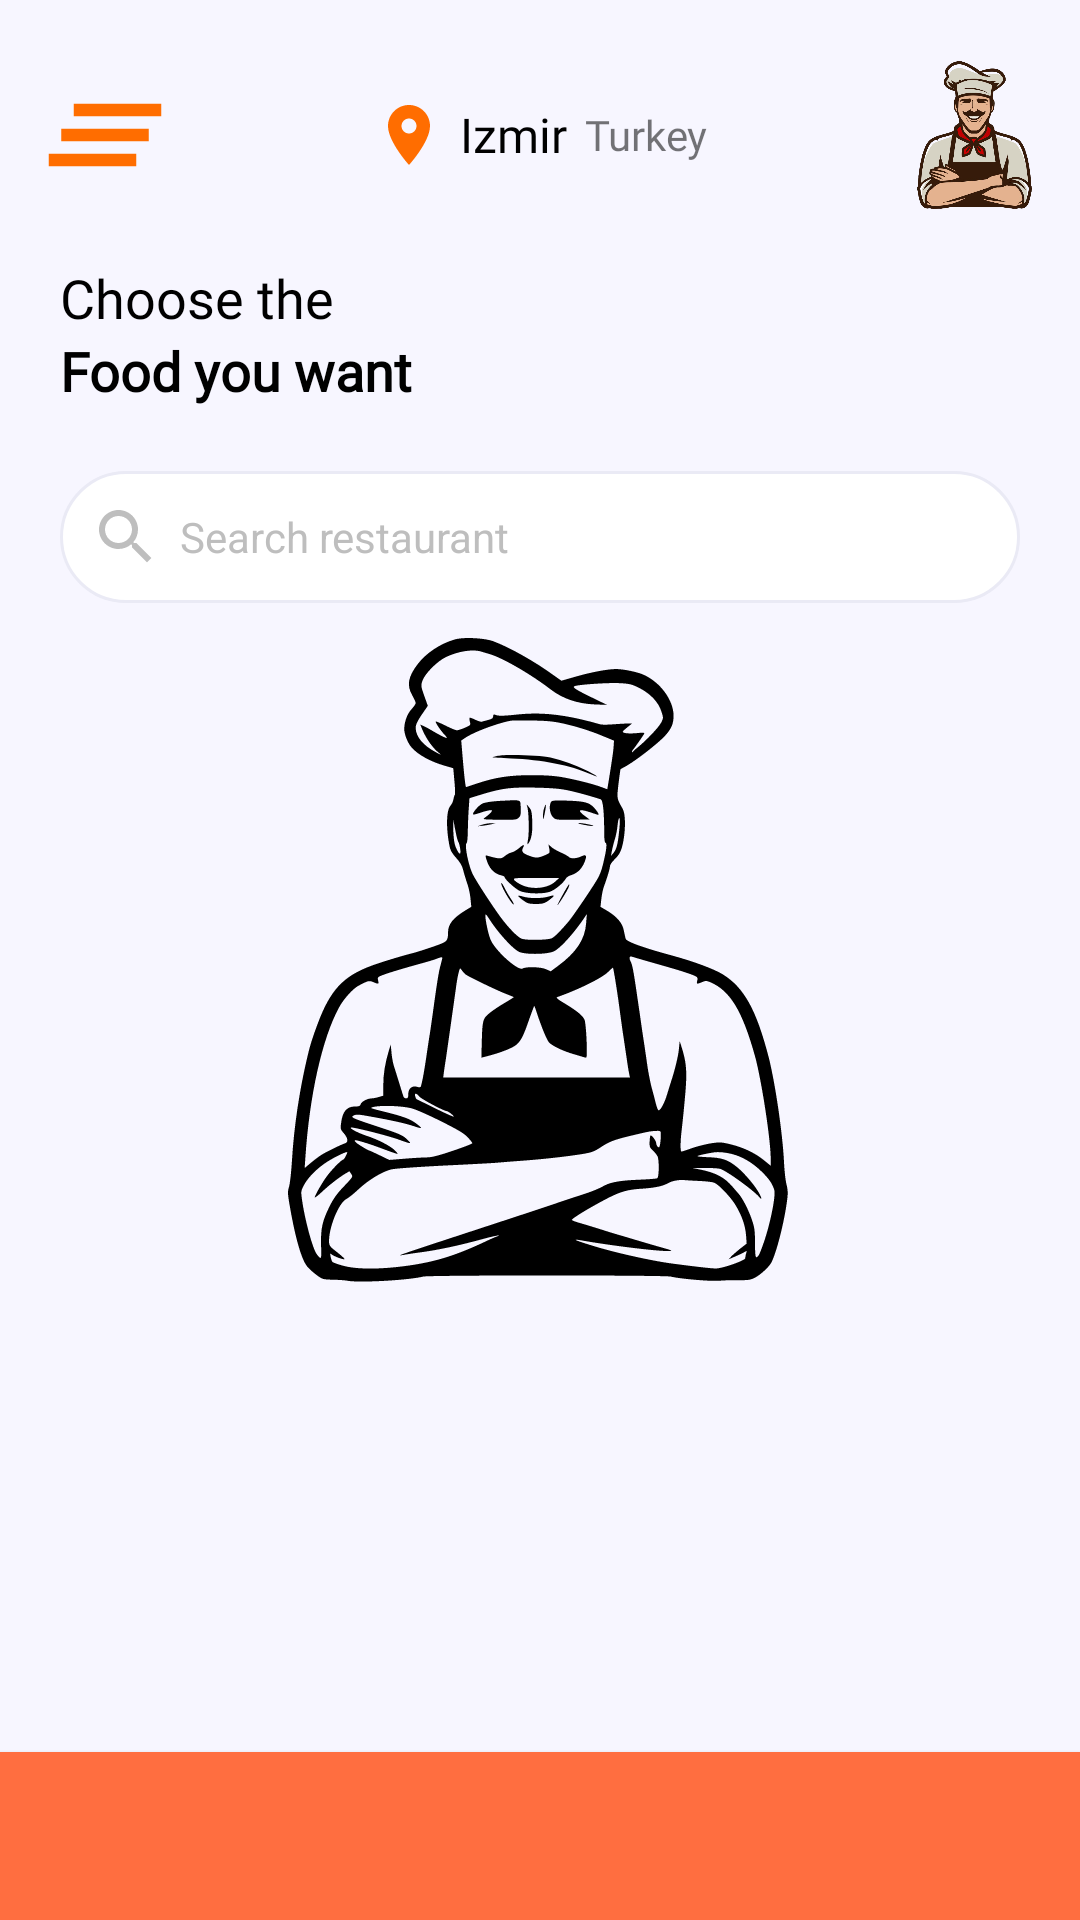

Named icons in this screenshot (1080×1920) and their bounding boxes, [x1=x1, y1=y1, x2=x2, y2=y2]:
location: [x1=388, y1=105, x2=430, y2=165]
